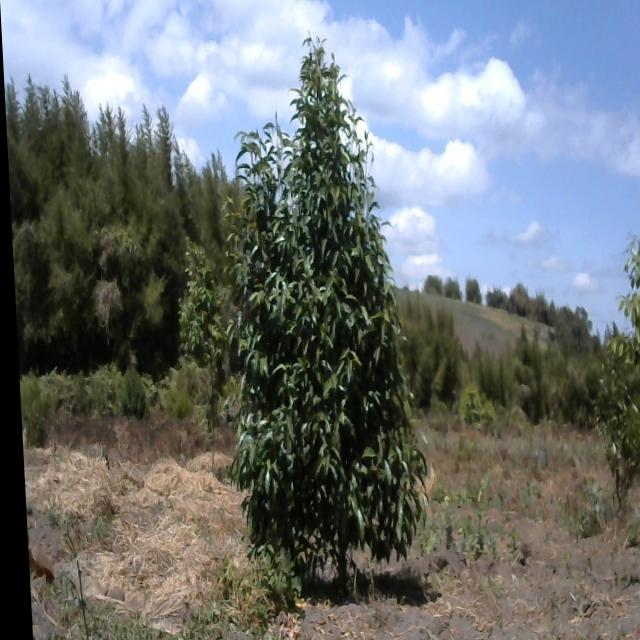Hass Avocado: (219, 54, 418, 577), (610, 222, 640, 392)
cedrus: (9, 66, 56, 219), (90, 96, 135, 235), (55, 84, 87, 213), (131, 105, 155, 246), (150, 103, 175, 238)
other: (174, 235, 227, 454), (586, 354, 639, 512)
